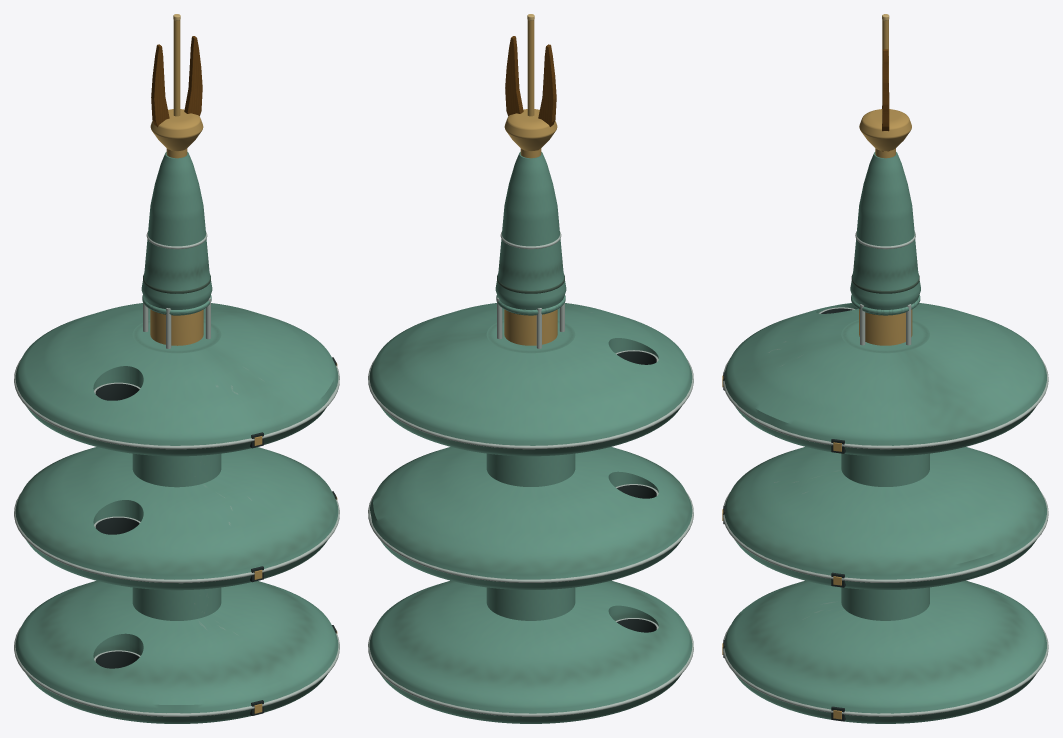
3 renders of one model, left to right at view 1: azimuth 30°, elevation 25°; view 2: azimuth 150°, elevation 25°; view 3: azimuth 270°, elevation 25°, orthographic.
Visible parts, largest first — view 1: RI06 broad saucer level 2, RI06 broad saucer level 1, RI06 broad saucer level 0, RI06 tapered upper mast, RI06 solid interlevel structural column, RI06 solid exposed brass mast neck, RI06 level 2 perimeter machined seam, RI06 level 0 perimeter machined seam, RI06 crown compact fork bowl, RI06 level 1 perimeter machined seam, RI06 refined crown arm left, RI06 refined crown arm right (+4 smaller); view 2: RI06 broad saucer level 2, RI06 broad saucer level 0, RI06 broad saucer level 1, RI06 tapered upper mast, RI06 solid interlevel structural column, RI06 level 1 perimeter machined seam, RI06 level 2 perimeter machined seam, RI06 level 0 perimeter machined seam, RI06 solid exposed brass mast neck, RI06 crown compact fork bowl, RI06 refined crown arm left, RI06 refined crown arm right (+1 smaller); view 3: RI06 broad saucer level 2, RI06 broad saucer level 0, RI06 broad saucer level 1, RI06 tapered upper mast, RI06 solid interlevel structural column, RI06 crown compact fork bowl, RI06 level 2 perimeter machined seam, RI06 level 1 perimeter machined seam, RI06 level 0 perimeter machined seam, RI06 solid exposed brass mast neck, RI06 refined crown arm right.
Boxes of the visible parts, bbox=[...] form: RI06 broad saucer level 2: bbox=[15, 303, 338, 456]; RI06 broad saucer level 1: bbox=[15, 447, 338, 590]; RI06 broad saucer level 0: bbox=[15, 580, 338, 723]; RI06 tapered upper mast: bbox=[141, 152, 212, 315]; RI06 solid interlevel structural column: bbox=[132, 453, 221, 620]; RI06 solid exposed brass mast neck: bbox=[150, 309, 203, 345]; RI06 level 2 perimeter machined seam: bbox=[14, 358, 339, 449]; RI06 level 0 perimeter machined seam: bbox=[14, 626, 339, 716]; RI06 crown compact fork bowl: bbox=[150, 109, 203, 151]; RI06 level 1 perimeter machined seam: bbox=[14, 492, 339, 583]; RI06 refined crown arm left: bbox=[151, 44, 169, 127]; RI06 refined crown arm right: bbox=[184, 36, 202, 116]; RI06 broad saucer level 2: bbox=[369, 303, 692, 456]; RI06 broad saucer level 0: bbox=[369, 580, 692, 723]; RI06 broad saucer level 1: bbox=[370, 447, 692, 589]; RI06 tapered upper mast: bbox=[495, 152, 566, 315]; RI06 solid interlevel structural column: bbox=[486, 453, 575, 620]; RI06 level 1 perimeter machined seam: bbox=[368, 492, 693, 582]; RI06 level 2 perimeter machined seam: bbox=[368, 358, 693, 449]; RI06 level 0 perimeter machined seam: bbox=[368, 626, 693, 716]; RI06 solid exposed brass mast neck: bbox=[504, 309, 557, 345]; RI06 crown compact fork bowl: bbox=[504, 109, 557, 151]; RI06 refined crown arm left: bbox=[538, 44, 556, 126]; RI06 refined crown arm right: bbox=[505, 36, 523, 116]; RI06 broad saucer level 2: bbox=[724, 303, 1046, 456]; RI06 broad saucer level 0: bbox=[724, 580, 1046, 723]; RI06 broad saucer level 1: bbox=[724, 447, 1046, 589]; RI06 tapered upper mast: bbox=[850, 152, 920, 315]; RI06 solid interlevel structural column: bbox=[841, 453, 929, 620]; RI06 crown compact fork bowl: bbox=[859, 109, 911, 151]; RI06 level 2 perimeter machined seam: bbox=[723, 358, 1048, 449]; RI06 level 1 perimeter machined seam: bbox=[723, 492, 1048, 582]; RI06 level 0 perimeter machined seam: bbox=[723, 626, 1048, 716]; RI06 solid exposed brass mast neck: bbox=[859, 309, 912, 345]; RI06 refined crown arm right: bbox=[882, 49, 889, 151].
Size of the model in its own units: 2.21 by 4.96 by 2.21.
Materials: 8 (3 with a texture image).
